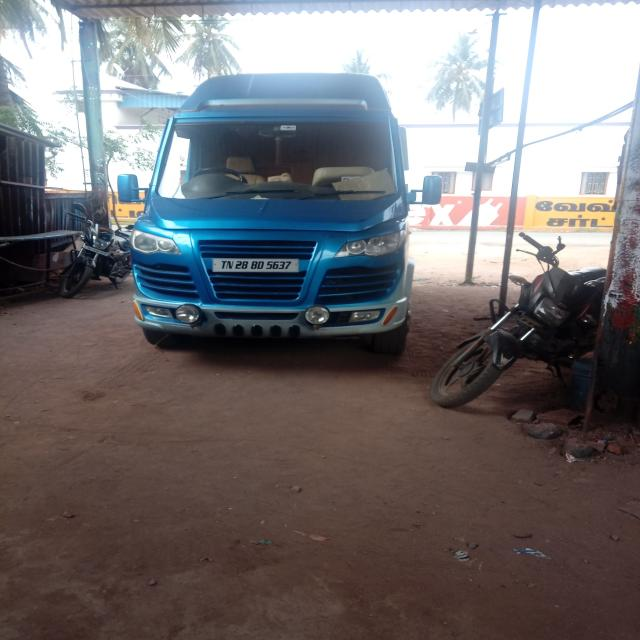Bus: (126, 76, 448, 372)
